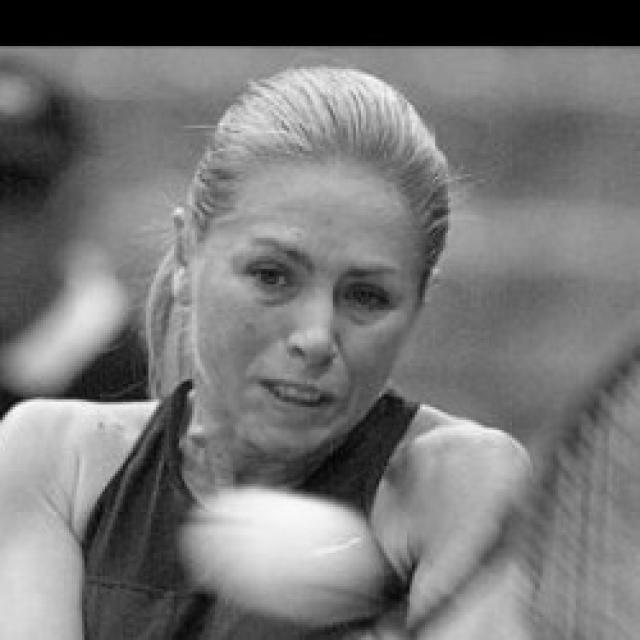real: (175, 144, 460, 456), (234, 240, 400, 320)
